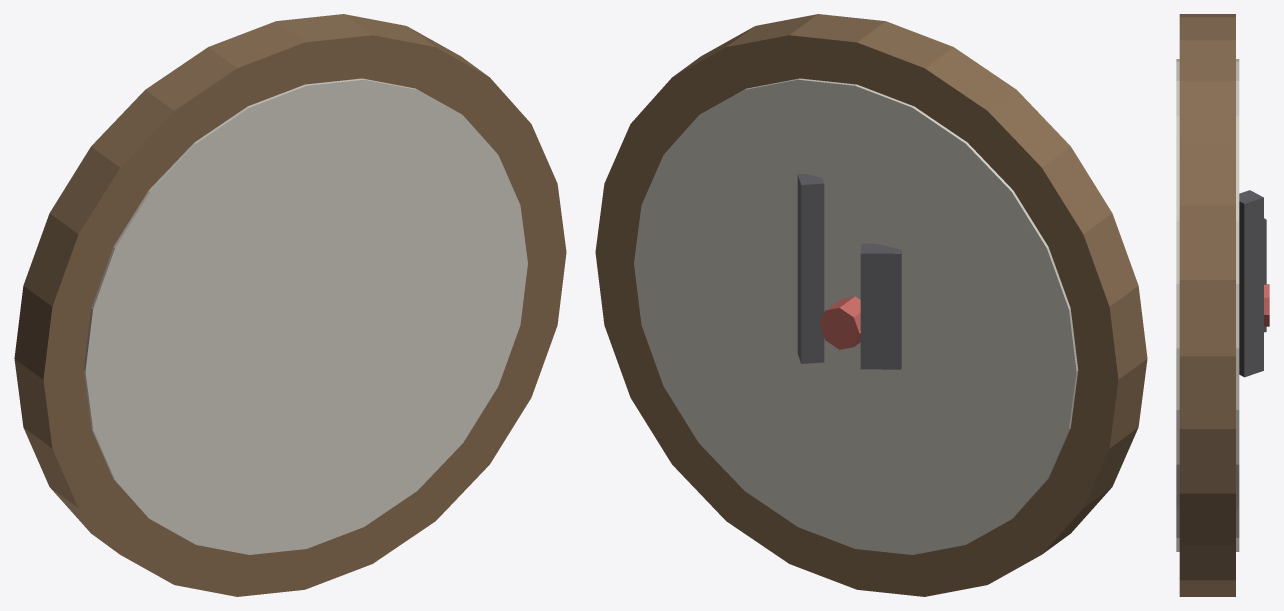
The model's file is arte_relogio_sala.glb.
The picture shows the model from 3 angles, left to right: view 1: azimuth 30°, elevation 25°; view 2: azimuth 150°, elevation 25°; view 3: azimuth 270°, elevation 25°; orthographic projection. The views are drawn at different scales.
Visible parts, largest first — view 1: ARTE_RelogioSala_v01; view 2: ARTE_RelogioSala_v01; view 3: ARTE_RelogioSala_v01.
Part boxes in pixels (x1,y1,x2,y2): ARTE_RelogioSala_v01: (14, 14, 566, 596); ARTE_RelogioSala_v01: (595, 14, 1147, 596); ARTE_RelogioSala_v01: (1176, 14, 1269, 596).
Bounding box in the file's own units: 0.52 × 0.52 × 0.083.
